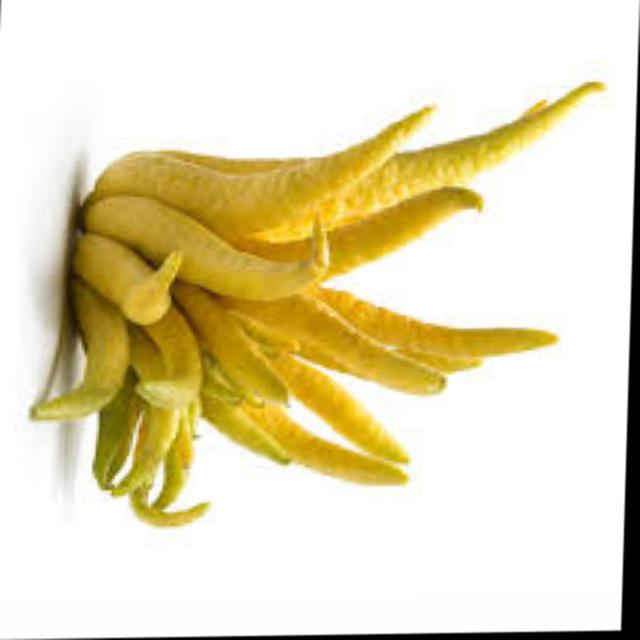PhatThu: (19, 62, 620, 557)
